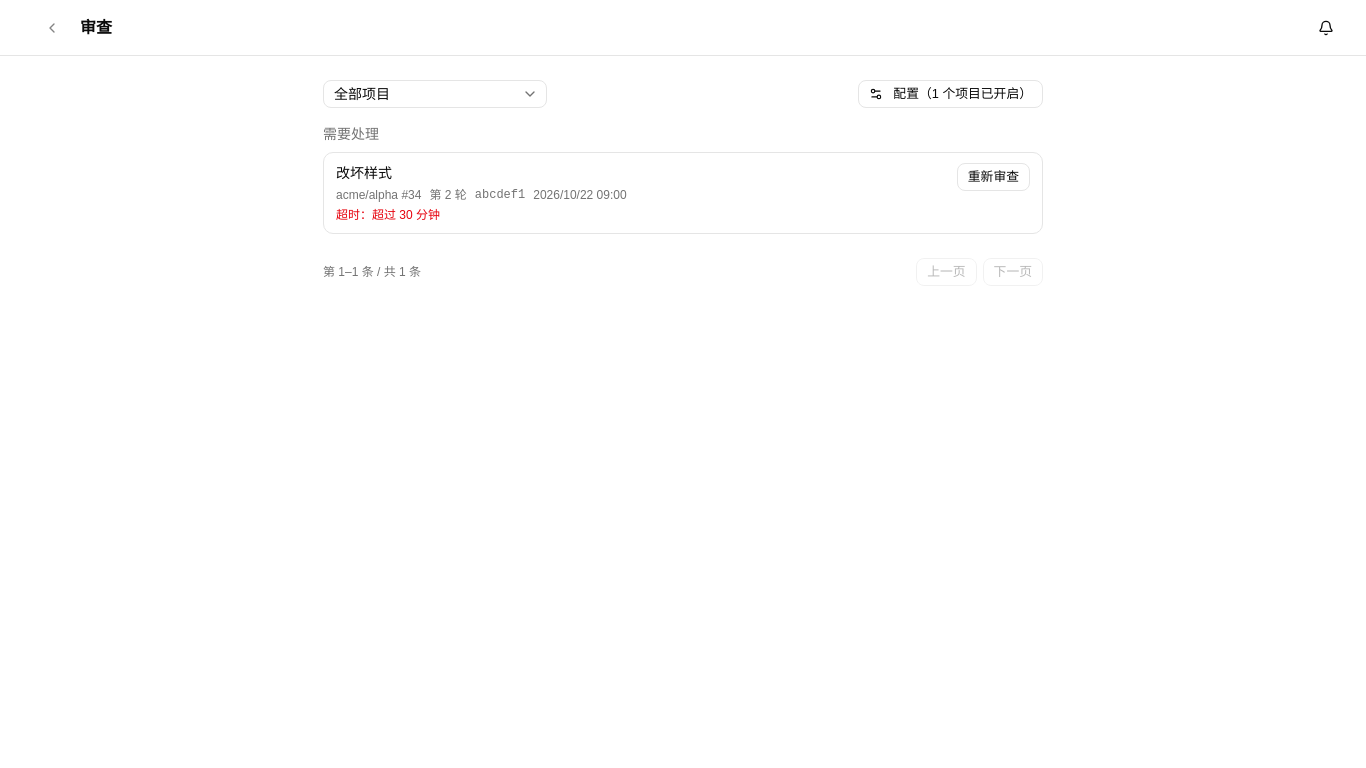
ReviewsPage PR 动态 › 需要处理项打开抽屉时详情同样轮询（不依赖列表分组快照）
Click the button "改坏样式": [364, 173] box [336, 163, 949, 223]
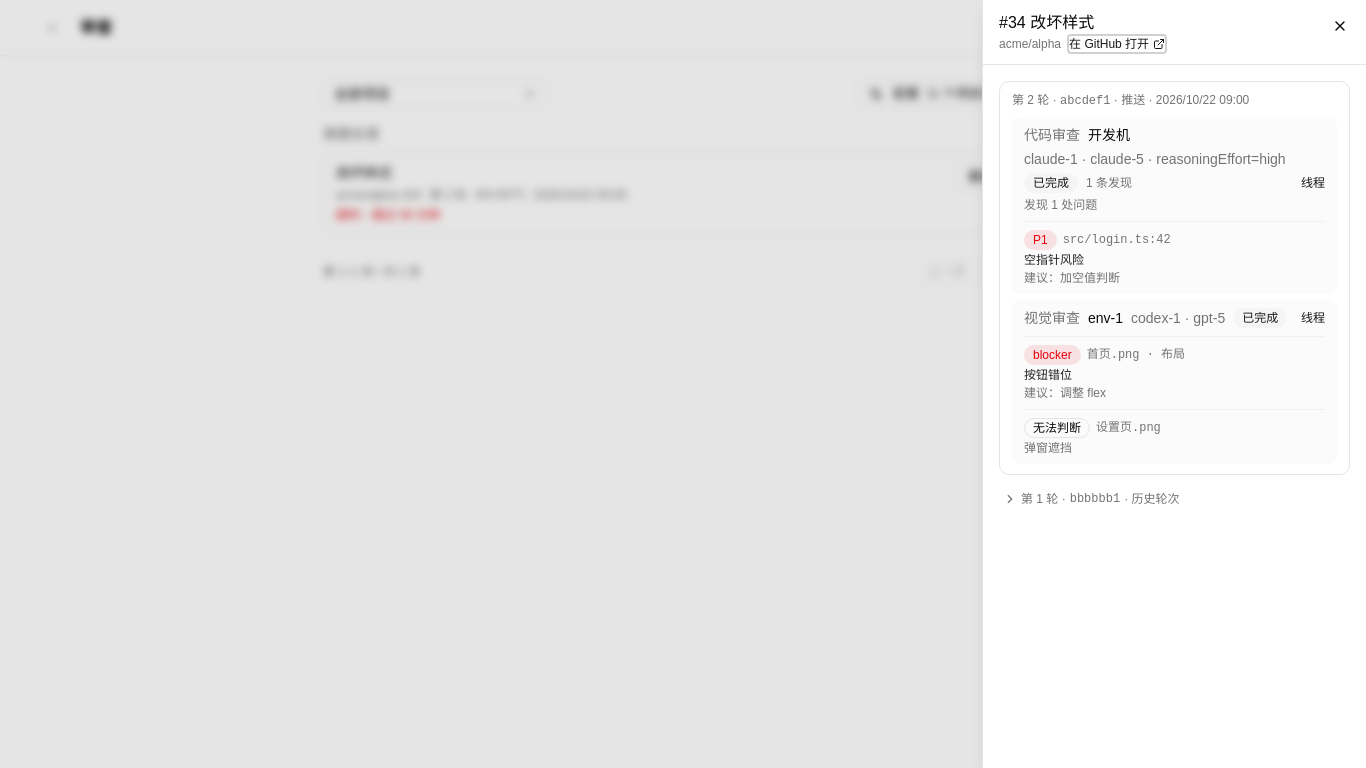
Check: the dialog is shown, box [982, 0, 1365, 767]
